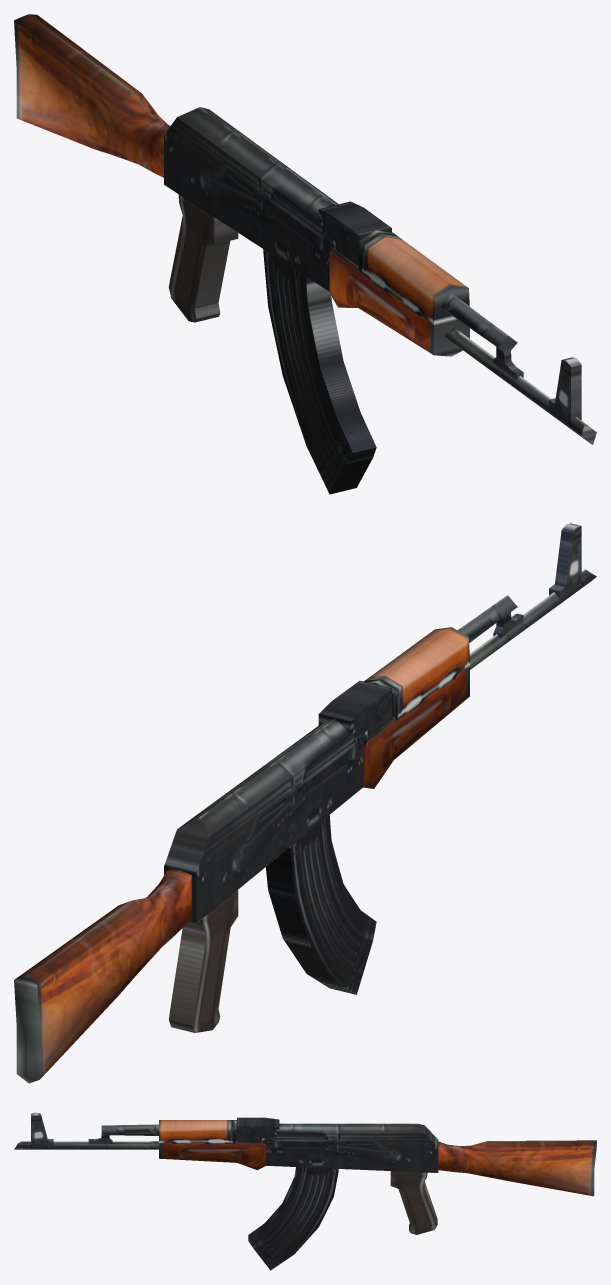
The model's file is AKM.FBX.
3 renders of one model, top to bottom at view 1: azimuth 30°, elevation 25°; view 2: azimuth 150°, elevation 25°; view 3: azimuth 270°, elevation 25°, orthographic. The views are drawn at different scales.
Parts seen in each view (by area): view 1: AKM; view 2: AKM; view 3: AKM.
Boxes of the visible parts, <box> form: AKM: <box>14,14,596,494</box>; AKM: <box>14,523,596,1083</box>; AKM: <box>14,1112,596,1270</box>.
Bounding box in the file's own units: 1.2 × 9.5 × 32.67.
